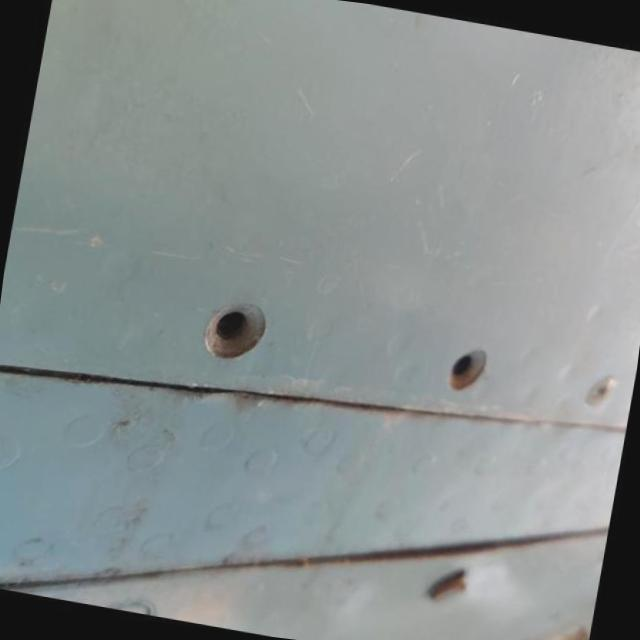Missing Fastener: (200, 295, 274, 365), (442, 336, 502, 402)
